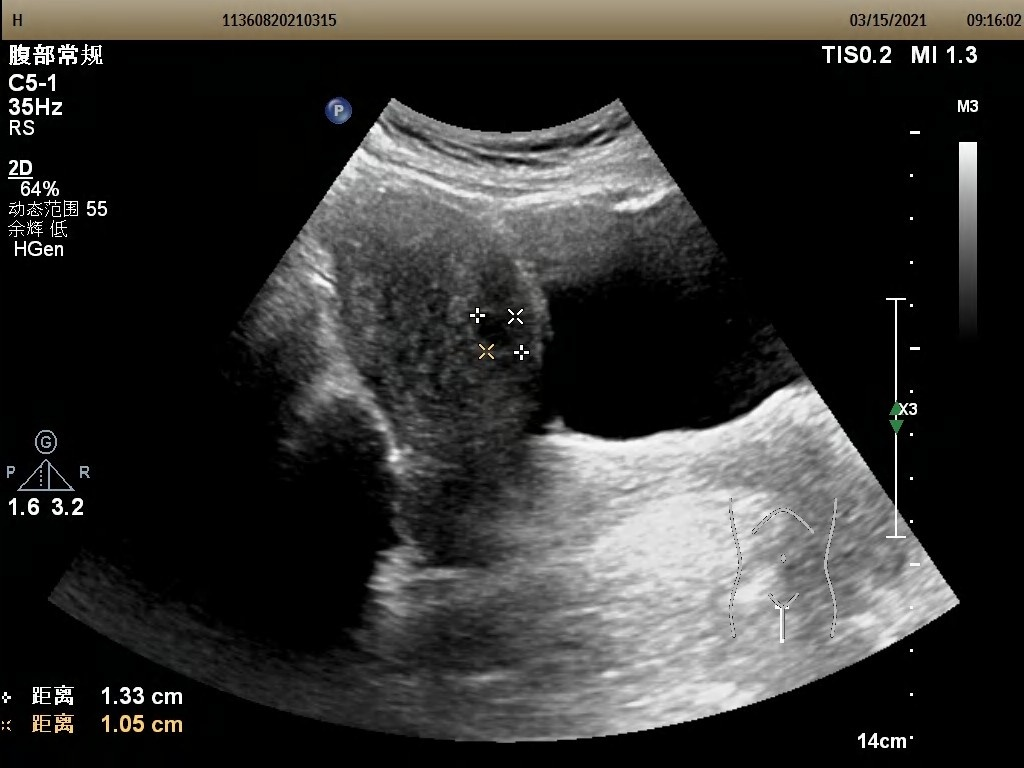肌瘤: (480, 310, 524, 351)
